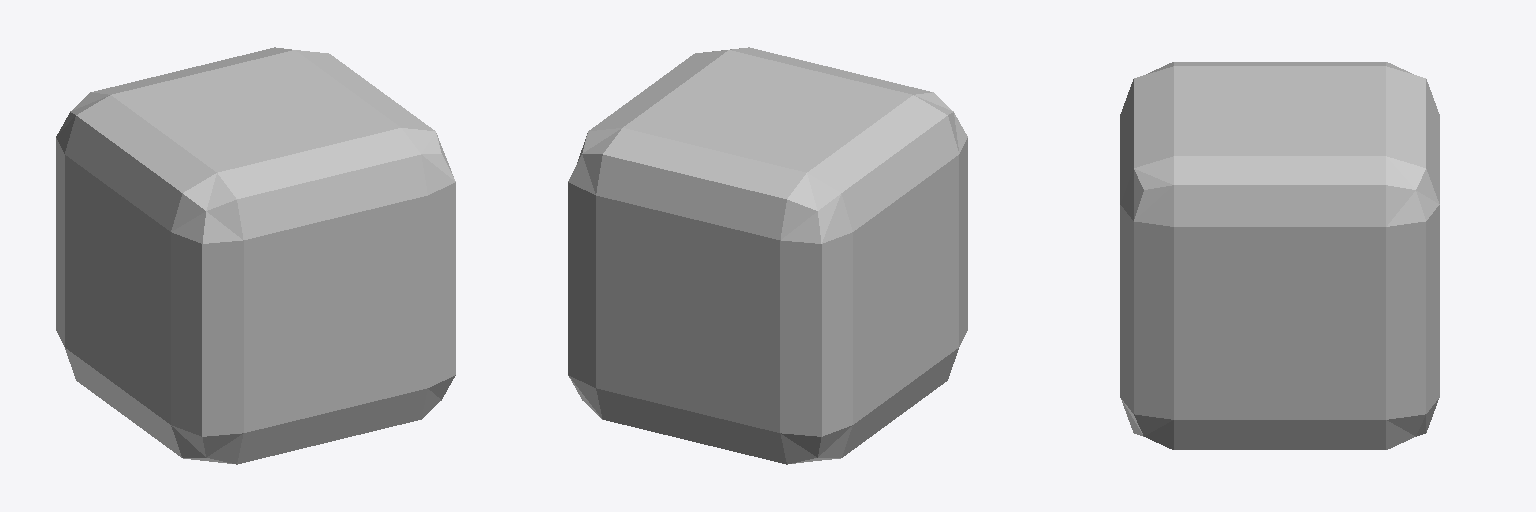
The model's file is unitcubeoid.obj.
3 renders of one model, left to right at view 1: azimuth 30°, elevation 25°; view 2: azimuth 150°, elevation 25°; view 3: azimuth 270°, elevation 25°, orthographic.
Visible parts, largest first — view 1: g0; view 2: g0; view 3: g0.
Boxes of the visible parts, x1=… form: g0: x1=56, y1=47, x2=455, y2=464; g0: x1=568, y1=47, x2=967, y2=464; g0: x1=1120, y1=62, x2=1439, y2=449.
Size of the model in its own units: 1 by 1 by 1.